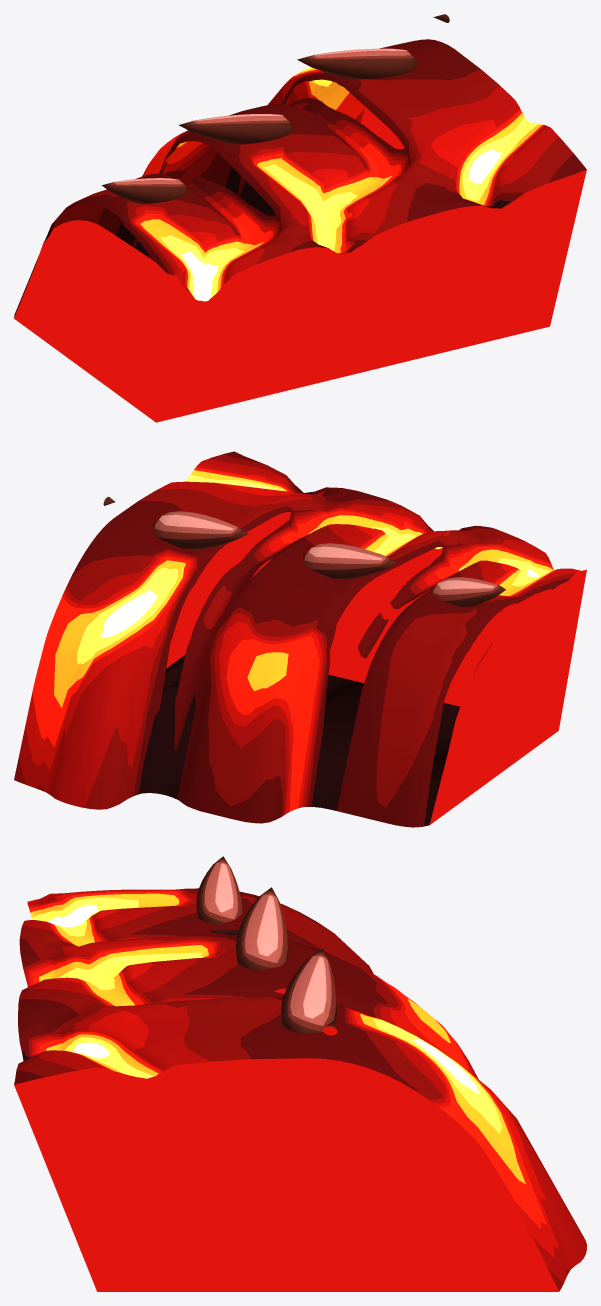
Rendered from lava_grub_r_t2.glb.
3 views of the same model, one above another, from view 1: azimuth 30°, elevation 25°; view 2: azimuth 150°, elevation 25°; view 3: azimuth 270°, elevation 25° (orthographic). The views are drawn at different scales.
Parts seen in each view (by area): view 1: lava_grub_r_t2; view 2: lava_grub_r_t2; view 3: lava_grub_r_t2.
Part boxes in pixels (<box>): lava_grub_r_t2: <box>14,14,586,422</box>; lava_grub_r_t2: <box>14,451,586,827</box>; lava_grub_r_t2: <box>14,856,586,1291</box>.
Bounding box in the file's own units: 24 × 13.74 × 26.88.
